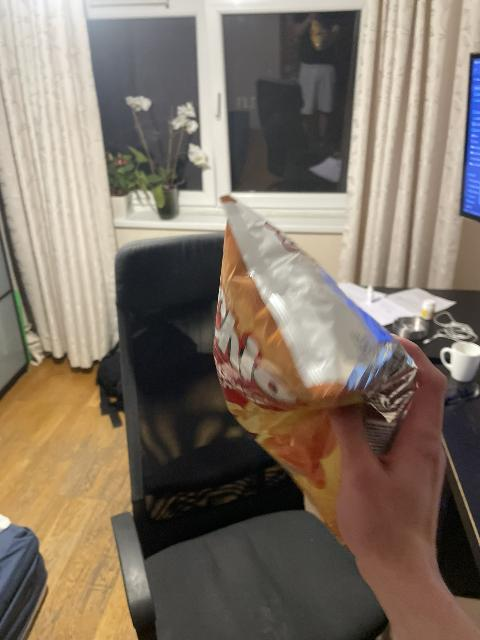Chio Cascaval 125g: (211, 199, 408, 543)
